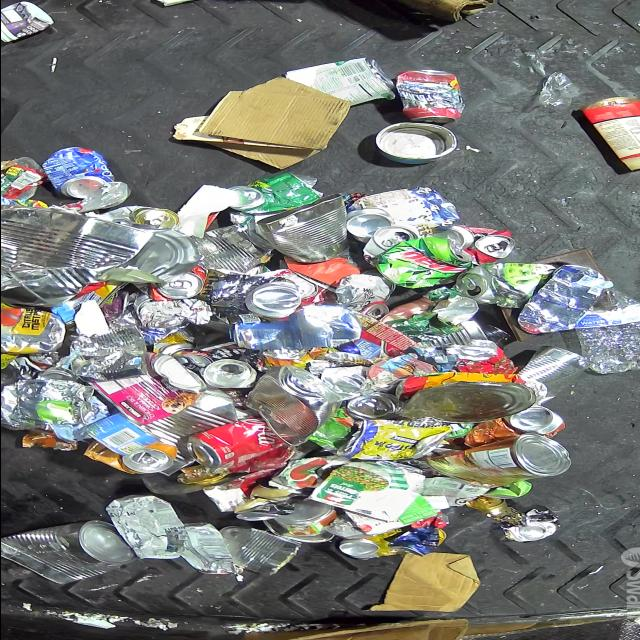can: (0, 204, 156, 308), (0, 520, 140, 585), (86, 352, 206, 426), (426, 434, 572, 488), (242, 364, 338, 446), (254, 194, 350, 264), (344, 186, 458, 243), (282, 58, 394, 108), (374, 237, 472, 289), (184, 416, 278, 469), (334, 419, 448, 462), (67, 325, 149, 383), (464, 404, 566, 448), (188, 223, 274, 274), (41, 146, 117, 200), (220, 525, 298, 577), (15, 379, 96, 426), (394, 70, 464, 124), (228, 172, 322, 212), (372, 121, 456, 165), (82, 412, 162, 457), (344, 526, 446, 560), (82, 440, 178, 476), (452, 263, 530, 307), (179, 522, 242, 575), (435, 225, 516, 265), (517, 346, 589, 384), (272, 498, 336, 536), (362, 228, 419, 268), (244, 282, 302, 319), (499, 508, 562, 542), (153, 264, 207, 300), (100, 206, 180, 230), (202, 360, 266, 390), (236, 494, 304, 522), (463, 498, 509, 521), (340, 538, 386, 560), (172, 352, 216, 374)
plastic_bottle: (574, 280, 640, 374)
